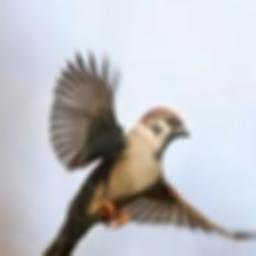Sparrow: (30, 48, 256, 256)
